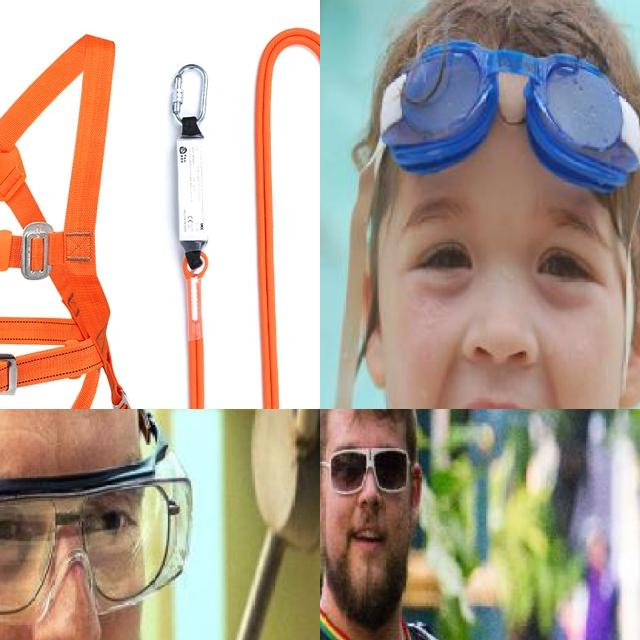Harness: (0, 32, 136, 409)
No_Ear-Protection: (320, 461, 327, 523)
No_Glasses: (383, 189, 635, 306)
face_nomask: (407, 218, 596, 409), (0, 487, 141, 640), (323, 449, 402, 558)
glasses: (372, 35, 640, 218), (0, 434, 196, 616), (320, 441, 414, 495)
head_nohelmet: (362, 0, 640, 203), (320, 409, 416, 434)
person: (320, 409, 501, 640)
